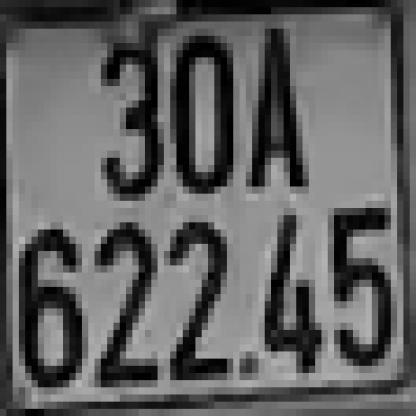0: (170, 43, 233, 194)
2: (94, 222, 158, 373), (170, 215, 227, 366)
3: (101, 36, 164, 201)
4: (259, 208, 315, 366)
5: (328, 208, 391, 359)
6: (19, 215, 82, 380)
A: (246, 36, 302, 194)
